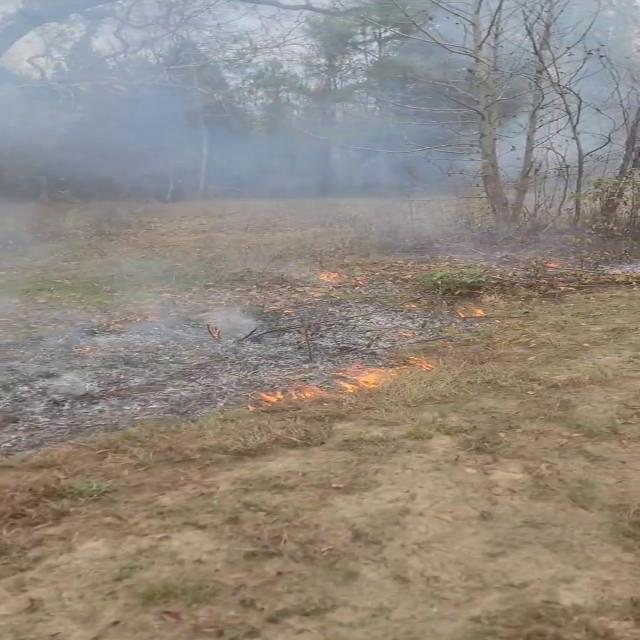Smoke: (4, 0, 618, 273)
